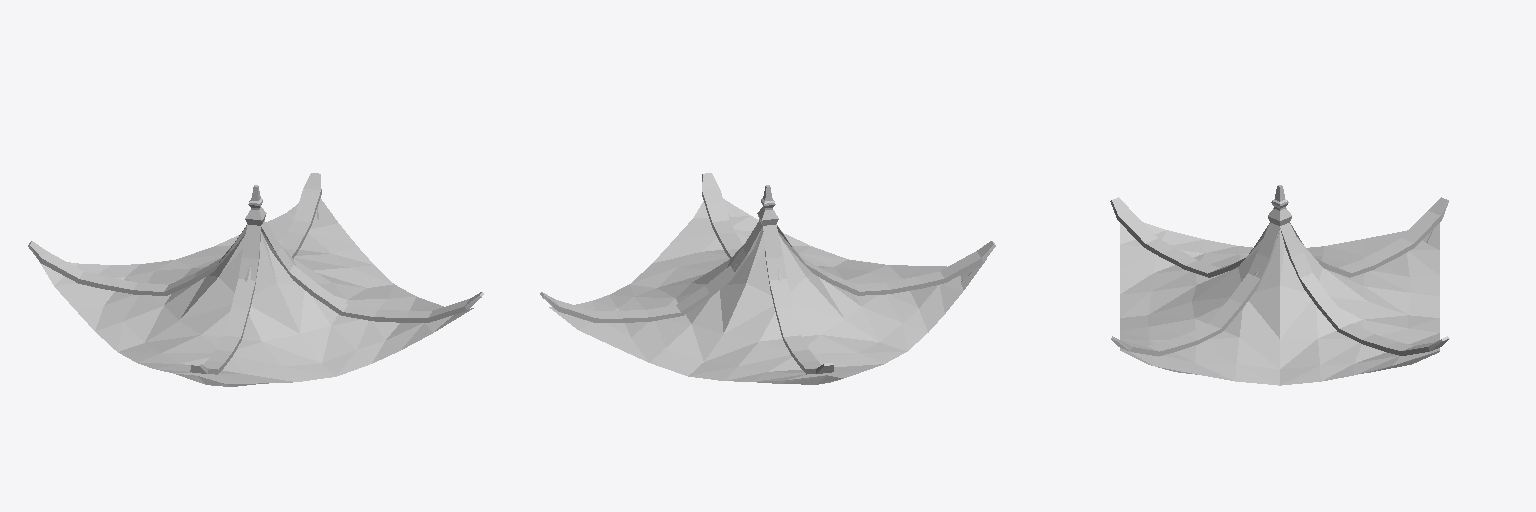
File: pagoda_roof.obj
3 renders of one model, left to right at view 1: azimuth 30°, elevation 25°; view 2: azimuth 150°, elevation 25°; view 3: azimuth 270°, elevation 25°, orthographic.
Parts seen in each view (by area): view 1: pCube6; view 2: pCube6; view 3: pCube6.
Part boxes in pixels (left/top/right/bottom): pCube6: left=28, top=173, right=483, bottom=386; pCube6: left=540, top=173, right=995, bottom=384; pCube6: left=1110, top=185, right=1449, bottom=385.
Size of the model in its own units: 19.05 by 8.69 by 19.05.